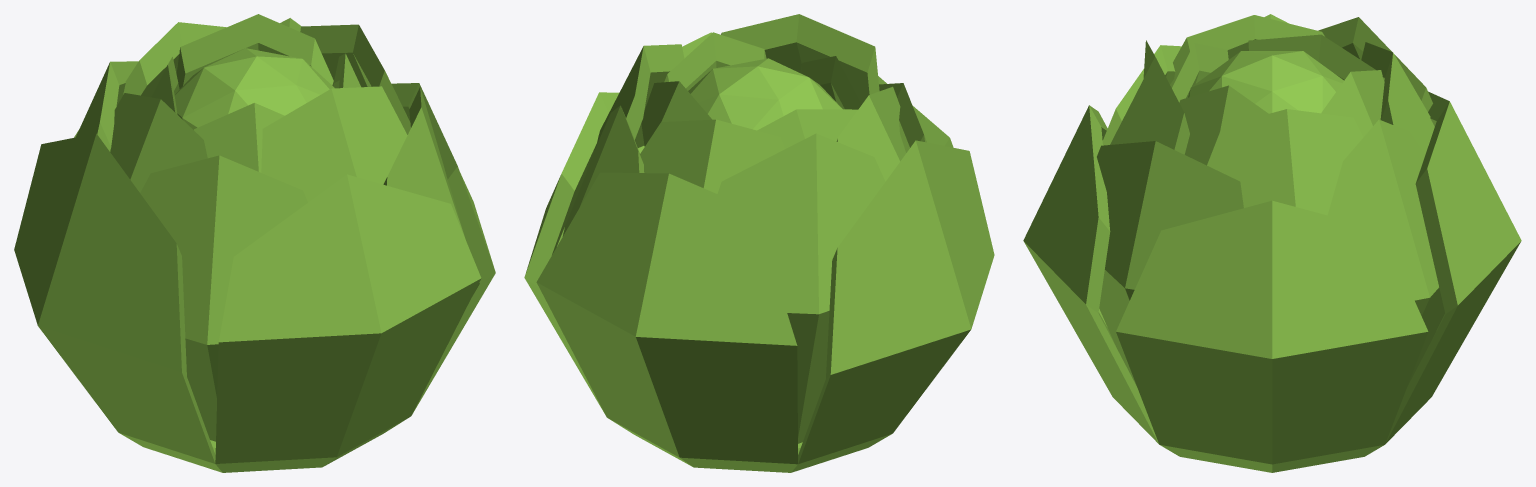
File: Cabbage.glb
3 renders of one model, left to right at view 1: azimuth 30°, elevation 25°; view 2: azimuth 150°, elevation 25°; view 3: azimuth 270°, elevation 25°, orthographic. The views are drawn at different scales.
Parts seen in each view (by area): view 1: Cabbage_Circle.013; view 2: Cabbage_Circle.013; view 3: Cabbage_Circle.013.
Boxes of the visible parts, x1,y1,x2,y2 form: Cabbage_Circle.013: [14, 14, 495, 472]; Cabbage_Circle.013: [524, 14, 994, 472]; Cabbage_Circle.013: [1023, 14, 1521, 472].
Bounding box in the file's own units: 11.36 × 9.62 × 11.27.
